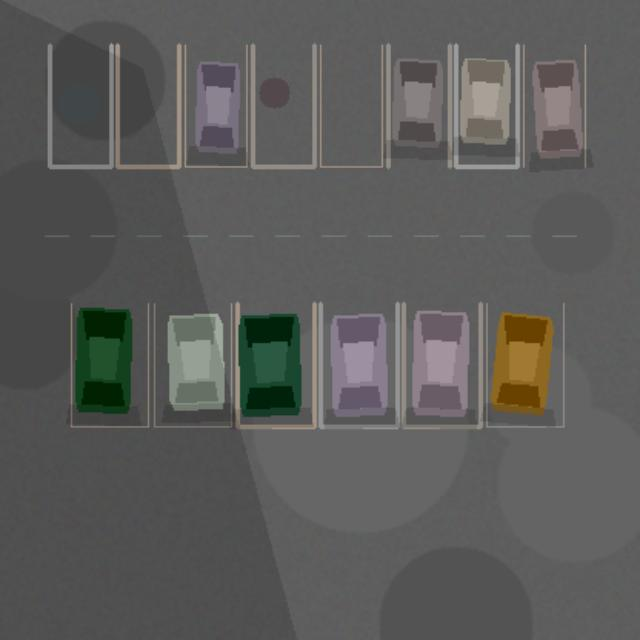space-empty: (49, 45, 111, 166), (252, 45, 314, 166), (320, 45, 382, 166), (117, 45, 178, 166)
space-occupied: (71, 303, 148, 426), (154, 303, 231, 426), (237, 303, 314, 426), (320, 303, 397, 426), (403, 303, 480, 426), (486, 303, 563, 426), (455, 45, 517, 166), (523, 45, 585, 166), (185, 45, 246, 166), (388, 45, 449, 166)
